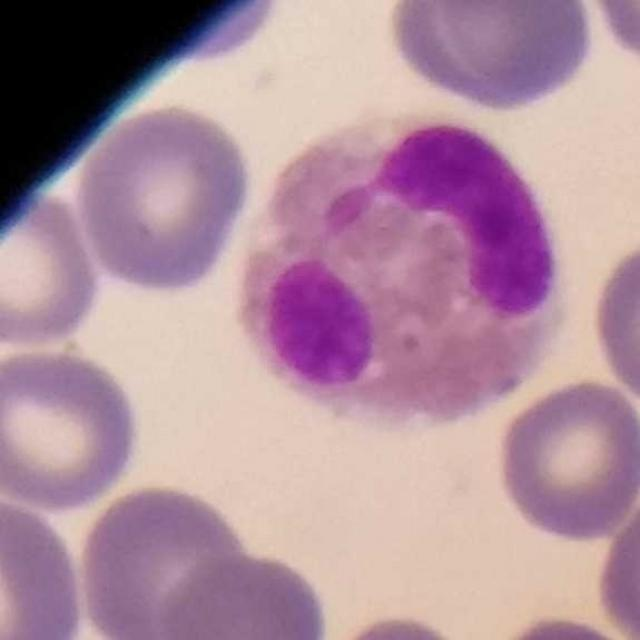eosino: (232, 107, 565, 433)
